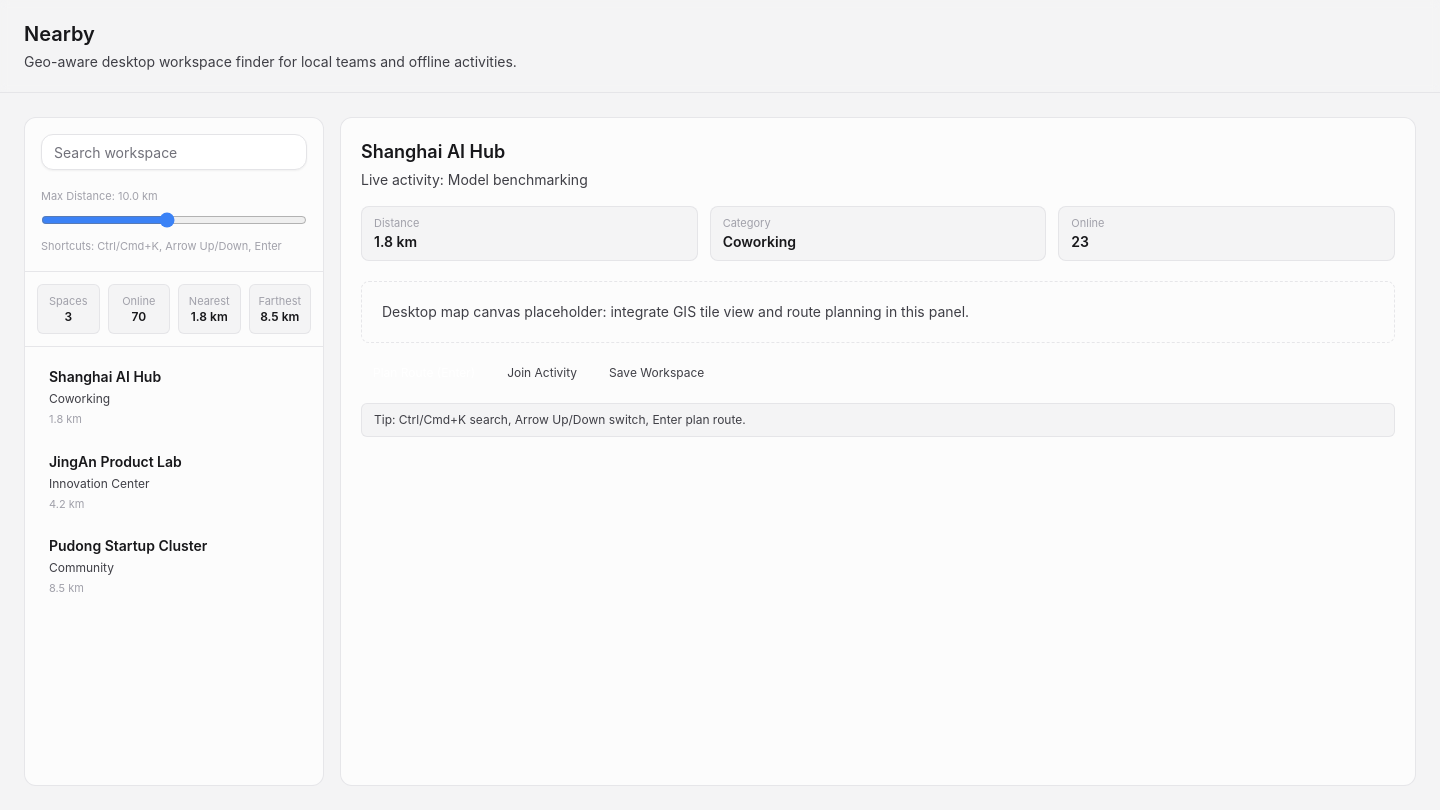
Test case: NearbyPage desktop interactions › filters nearby workspaces by max distance
Set the slider to "2" at [62, 220], box [41,216,307,224]
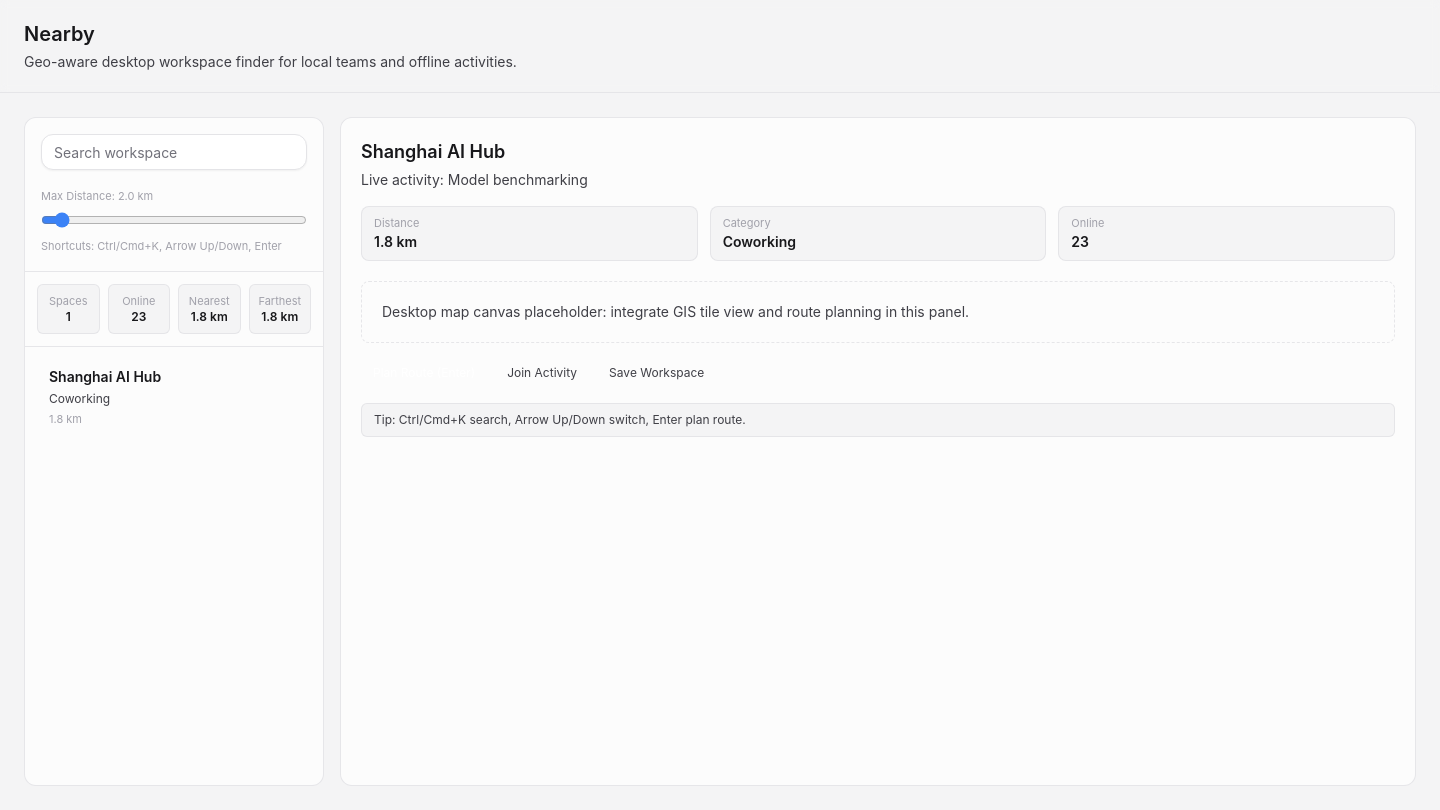
expect the text "Shanghai AI Hub" is shown: met, box [49,368,161,385]
expect the button "JingAn Product Lab" is gone: met
